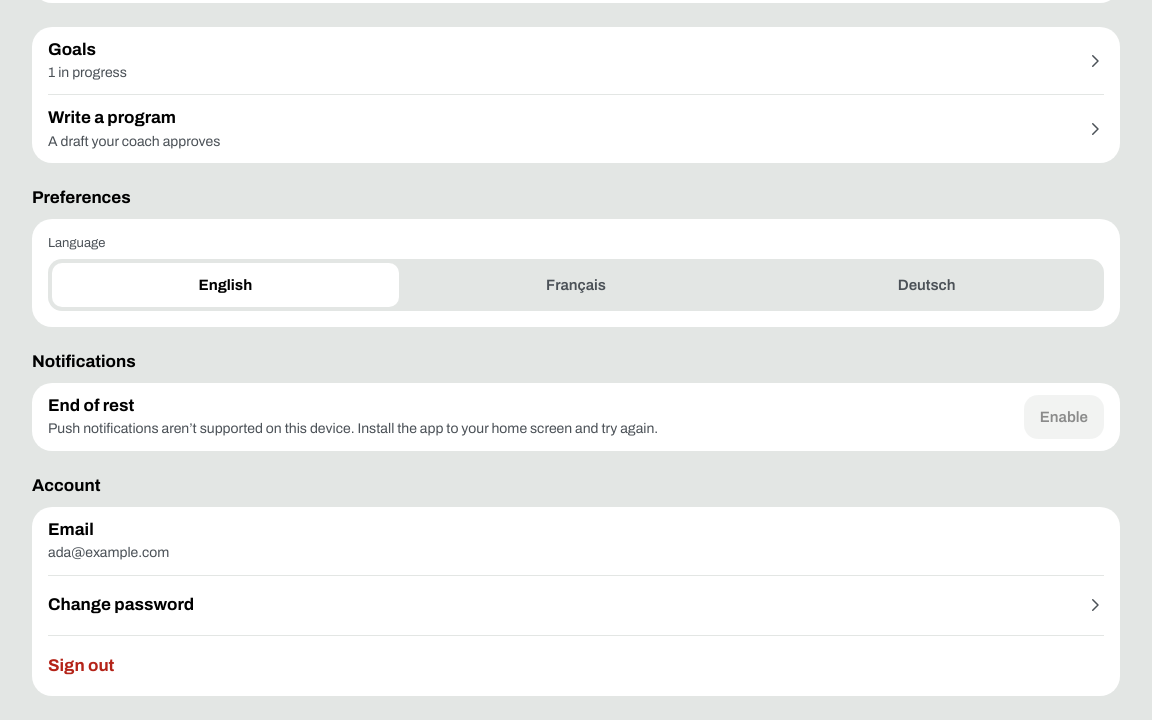
Scenario: StudentProfile › change-password dialog: asks for the current password first, as a current-password field
(page scrolled)
Click the button "Change password".
click(121, 605)  # box x1=48 y1=576 x2=1104 y2=636
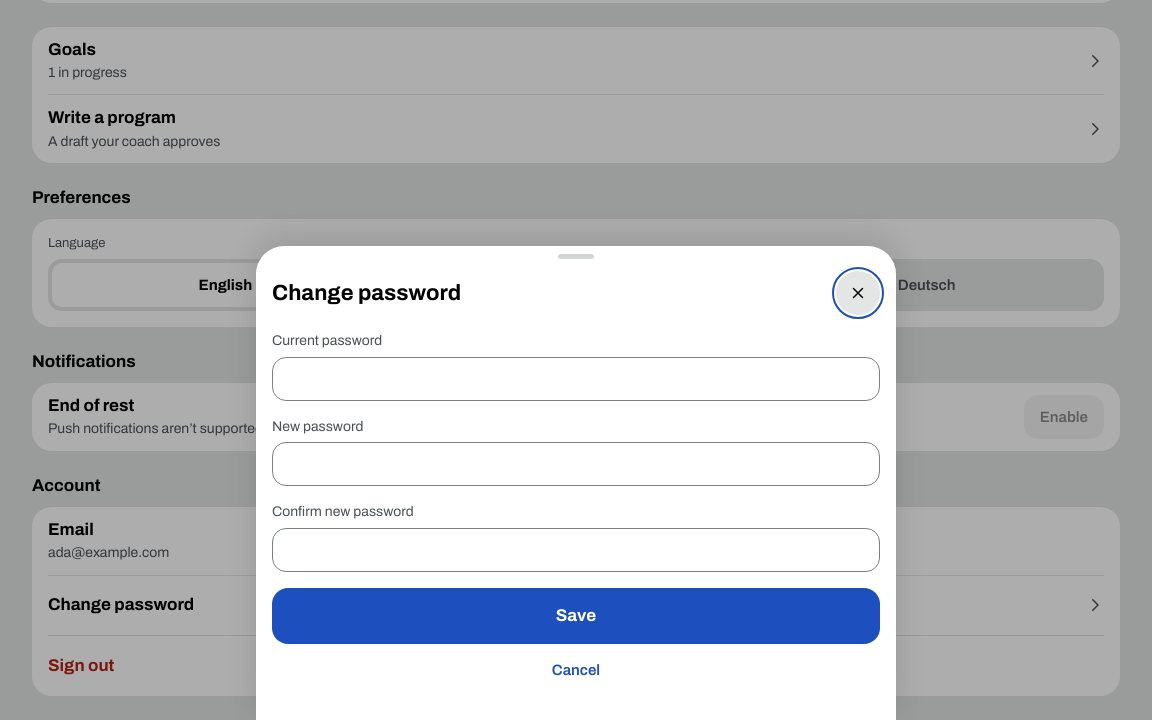
Expected: the number of password fields labelled "Current password" is 3, x1=272 y1=357 x2=880 y2=401; x1=272 y1=442 x2=880 y2=486; x1=272 y1=528 x2=880 y2=572
